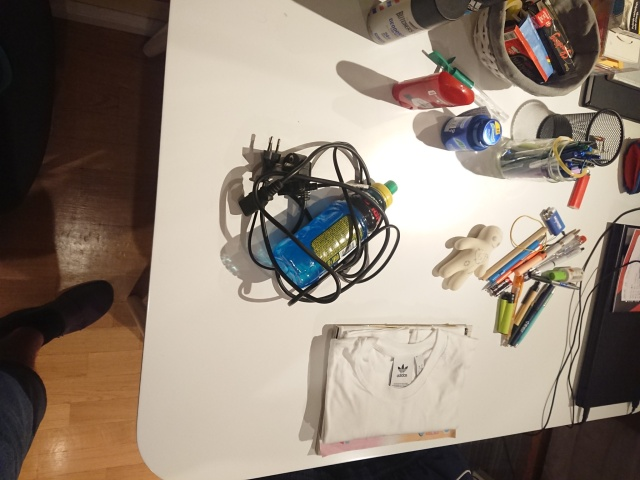Vindi Iso Sport Forest Strawberries 500mL: (272, 178, 399, 288)
